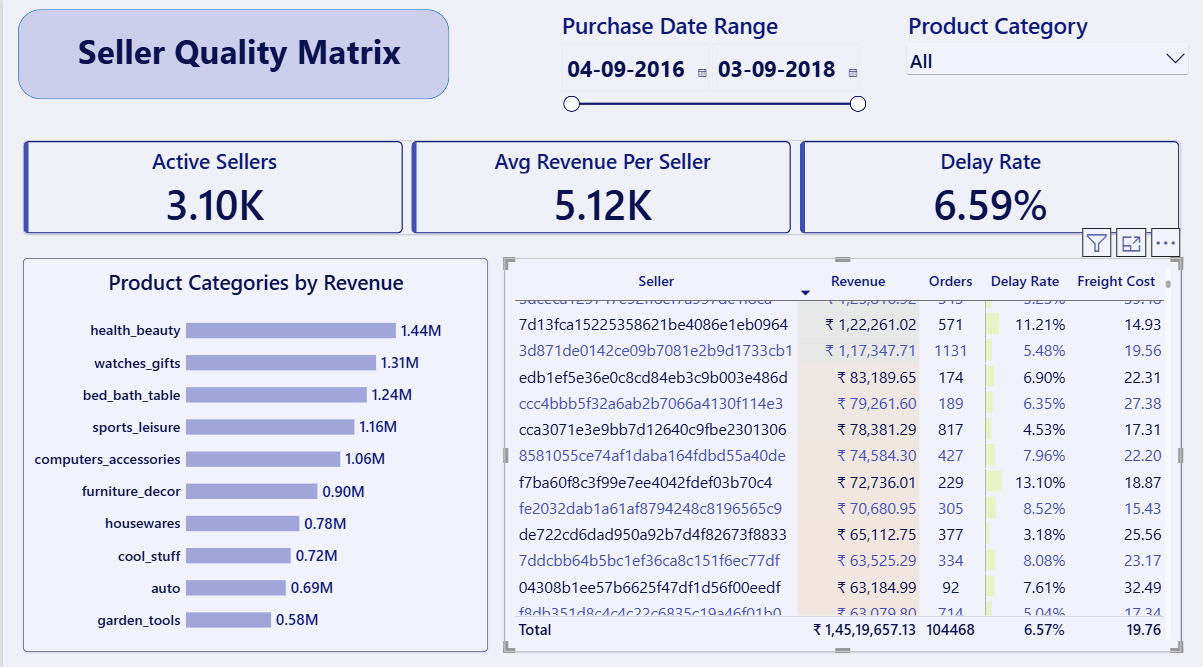

The dashboard page shown, as its layout file describes it:
{"tool":"powerbi","page":{"name":"Seller Quality Matrix","canvas":[1920,1080],"ordinal":2},"visuals":[{"type":"shape","box":[24,18,690,144],"z":0},{"type":"textbox","box":[0,48,756.4,94.1],"z":1000},{"type":"slicer","title":"Average Order Price","fields":{"Values":["ecommerce_db fact_orders.order_purchase_timestamp"]},"box":[886.7,18.1,497.7,222.6],"z":2000},{"type":"cardVisual","fields":{"Data":["Count(ecommerce_db fact_orders.seller_id)","_Measures.Avg Revenue Per Seller","_Measures.Delay Rate"]},"box":[32.6,228,1853.1,150.2],"z":3000},{"type":"clusteredBarChart","title":"Product Categories by Revenue","fields":{"Category":["ecommerce_db dim_products.product_category_name_english"],"Y":["_Measures.Total Revenue"]},"box":[32,416,744,630],"z":4000},{"type":"tableEx","fields":{"Values":["ecommerce_db dim_sellers.seller_id","_Measures.Total Revenue","_Measures.Total Orders","_Measures.Delay Rate","_Measures.Average Freight Cost"]},"box":[802,416,1084,630],"z":5000},{"type":"slicer","title":"Average Order Price","fields":{"Values":["ecommerce_db dim_products.product_category_name_english"]},"box":[1440,17.8,462.2,173.3],"z":6000}]}

Visuals, with their boxes in screenshot pixels (x1, y1, x2, y2), scaled from the page's 1920x1080 canvas onto the 1203x667 screenshot:
shape: l=15, t=11, r=447, b=100
textbox: l=0, t=30, r=474, b=88
"Average Order Price" slicer: l=556, t=11, r=867, b=149
cardVisual - Count(ecommerce_db fact_orders.seller_id) x _Measures.Avg Revenue Per Seller: l=20, t=141, r=1182, b=234
"Product Categories by Revenue" clusteredBarChart: l=20, t=257, r=486, b=646
tableEx - ecommerce_db dim_sellers.seller_id x _Measures.Total Revenue: l=503, t=257, r=1182, b=646
"Average Order Price" slicer: l=902, t=11, r=1192, b=118
